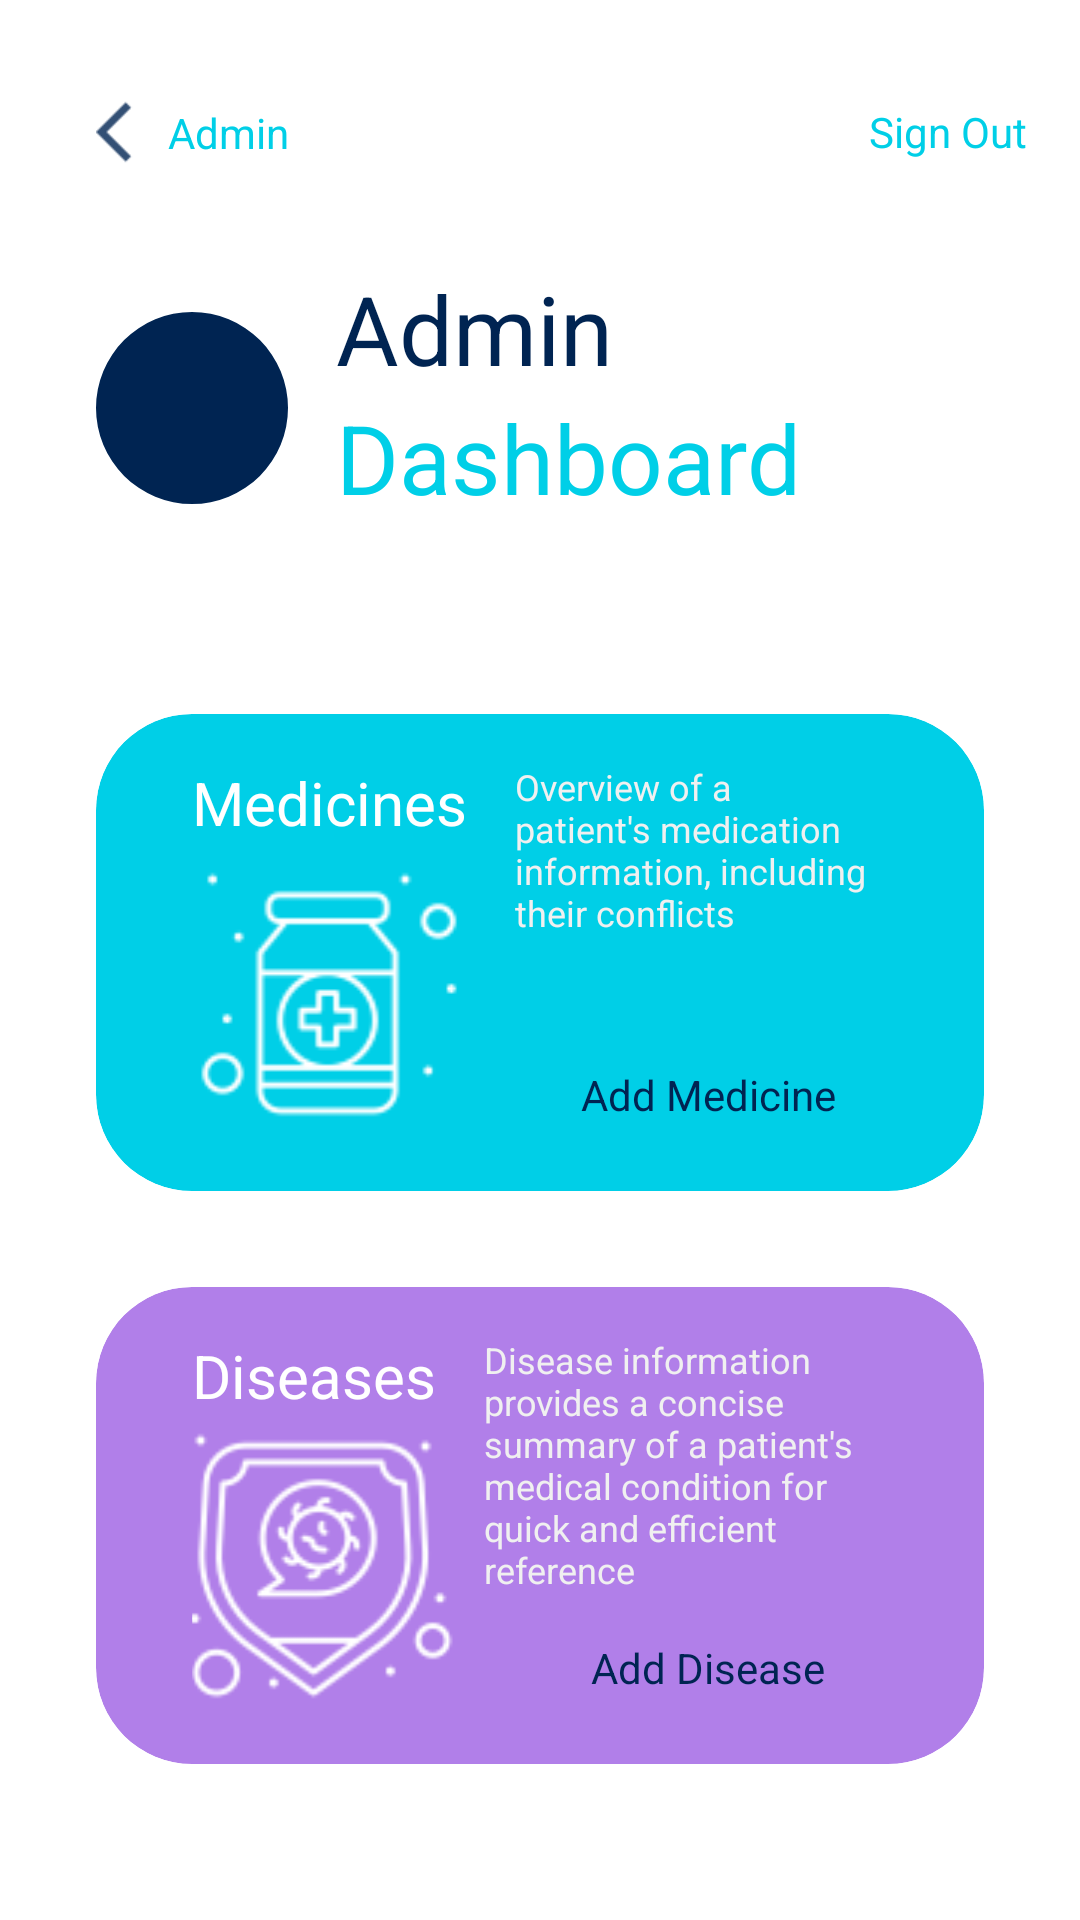

Screen size 1080*1920. Icon name, then its box in pixels as detection(x1, y1, x2, y2):
back: detection(96, 102, 131, 162)
